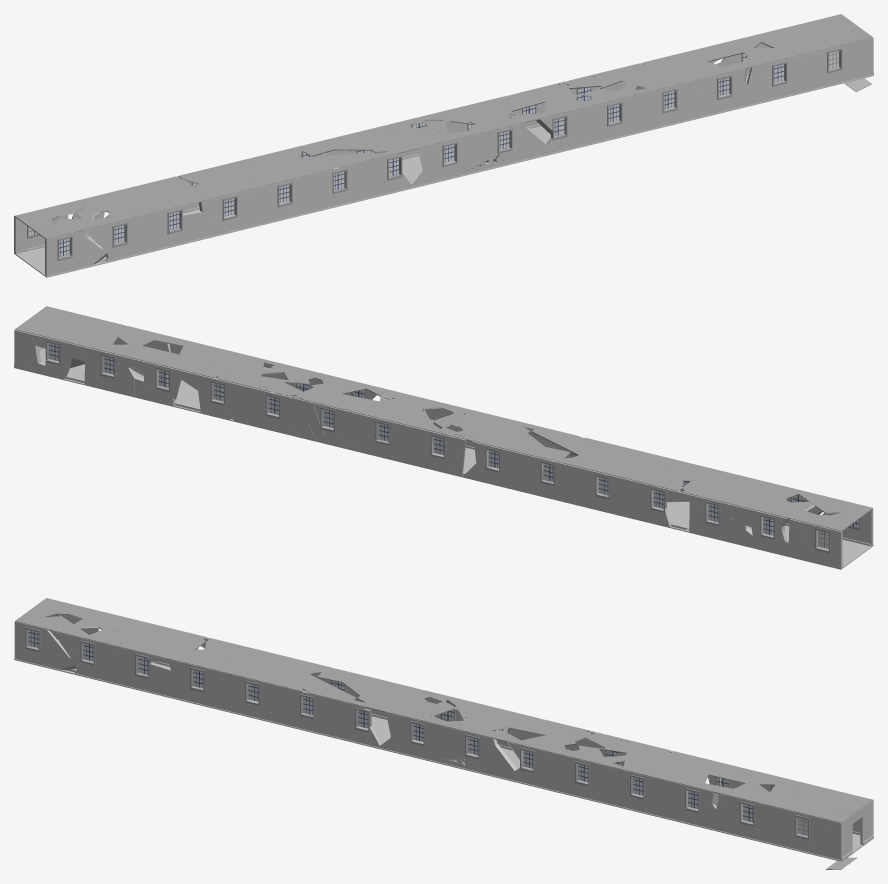
The model's file is corridorBreakCeilling 1.fbx.
3 views of the same model, one above another, from view 1: azimuth 30°, elevation 25°; view 2: azimuth 150°, elevation 25°; view 3: azimuth 330°, elevation 25° (orthographic).
Parts seen in each view (by area): view 1: Cube.007_cell_cell.004_cell.005, Plane.001_cell.004_cell.005_cell.003_cell.001, Plane.002, Cube.051, Cube.010_cell.001_cell.004_cell.005, Cube.013, Group_016.001; view 2: Cube.010_cell.001_cell.004_cell.005, Plane.001_cell.004_cell.005_cell.003_cell.001, Plane.002, Cube.006, Cube.009, Cube.007_cell_cell.004_cell.005, Group_016.002; view 3: Cube.007_cell_cell.004_cell.005, Plane.001_cell.004_cell.005_cell.003_cell.001, Cube.051, Plane.002, Cube.013, Cube.010_cell.001_cell.004_cell.005, Group_016.001, Cube.003.
Boxes of the visible parts, <box> form: Cube.007_cell_cell.004_cell.005: <box>45,38,872,276</box>; Plane.001_cell.004_cell.005_cell.003_cell.001: <box>14,14,872,239</box>; Plane.002: <box>14,75,873,277</box>; Cube.051: <box>57,48,842,260</box>; Cube.010_cell.001_cell.004_cell.005: <box>14,14,839,253</box>; Cube.013: <box>59,51,838,256</box>; Group_016.001: <box>59,52,838,256</box>; Cube.010_cell.001_cell.004_cell.005: <box>14,330,842,568</box>; Plane.001_cell.004_cell.005_cell.003_cell.001: <box>15,306,872,531</box>; Plane.002: <box>14,348,873,569</box>; Cube.006: <box>45,340,829,553</box>; Cube.009: <box>49,343,828,548</box>; Cube.007_cell_cell.004_cell.005: <box>113,337,873,546</box>; Group_016.002: <box>49,344,828,548</box>; Cube.007_cell_cell.004_cell.005: <box>14,621,842,859</box>; Plane.001_cell.004_cell.005_cell.003_cell.001: <box>15,598,872,823</box>; Cube.051: <box>25,627,809,839</box>; Plane.002: <box>14,639,861,861</box>; Cube.013: <box>28,630,807,835</box>; Cube.010_cell.001_cell.004_cell.005: <box>48,598,873,835</box>; Group_016.001: <box>28,631,807,835</box>; Cube.003: <box>840,800,872,860</box>.
Bounding box in the file's own units: 60.24 × 3.64 × 4.18.
